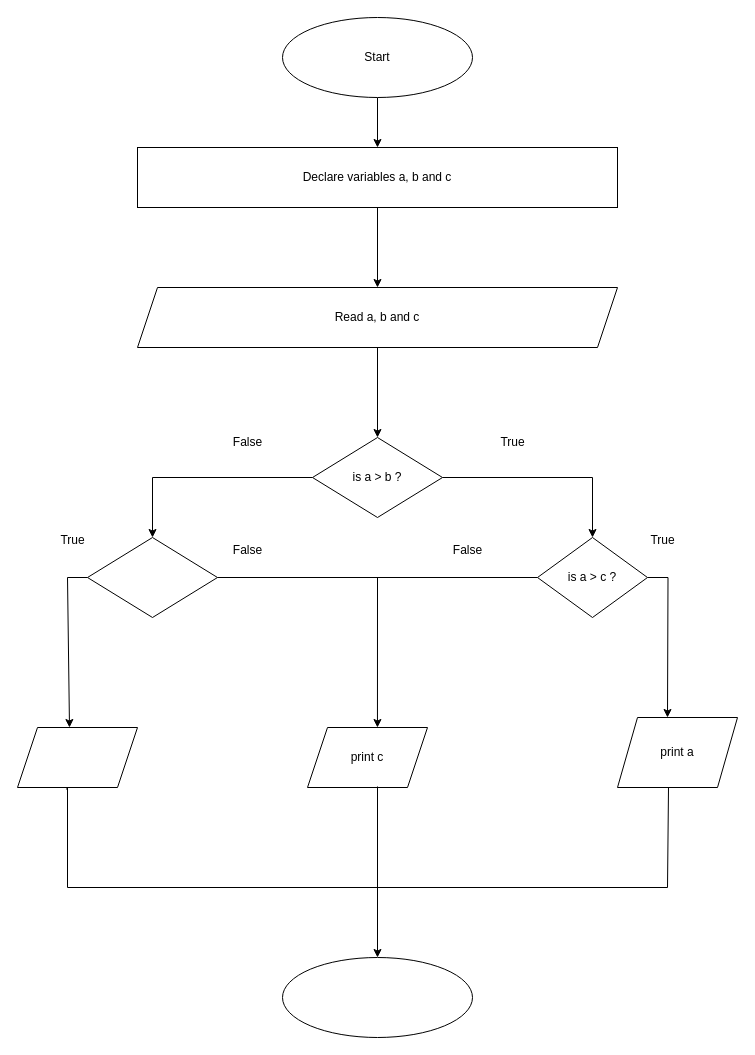
Some shapes in this 755 by 1055 pixel diagram are drawn without their labels. Each missing label, with the centre of its shape:
is b > c ?: the point at 152,577
Print b: the point at 77,757
Stop: the point at 377,997
